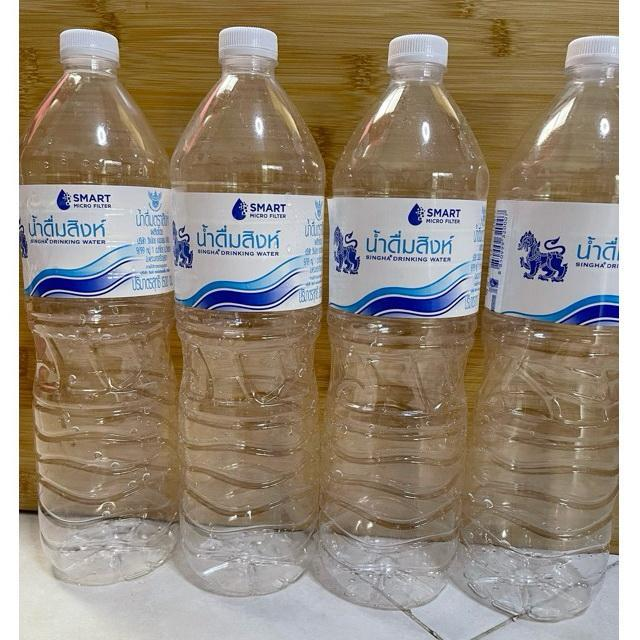PET Bottle: (476, 21, 640, 640), (20, 22, 186, 614), (163, 17, 327, 596), (328, 25, 475, 634)
